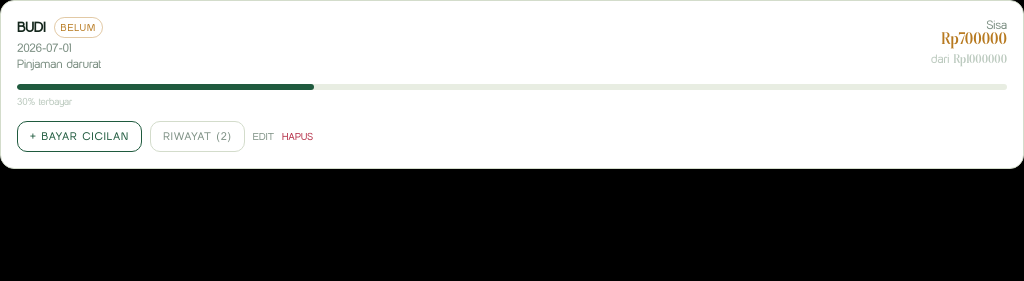
KasbonCard — tambahan entries (jenis=tambah branch) › shows '· tambahan' and '+' prefix for tambahan entries in riwayat
The image size is (1024, 281).
Click the button "Riwayat (2)" at [197, 136], box [150, 121, 245, 152]
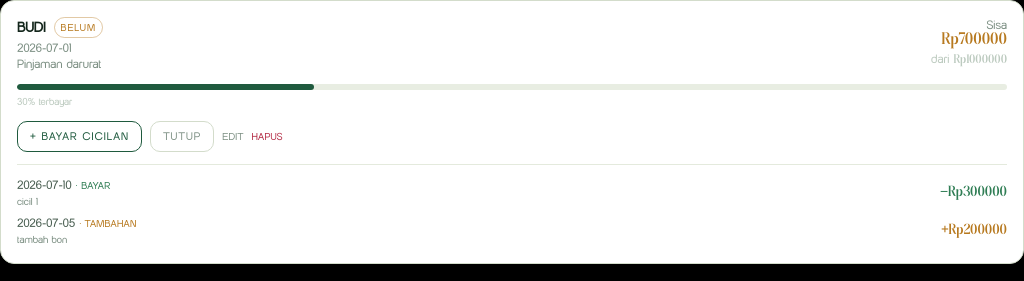
expect the text "· tambahan" is shown: met, box [79, 216, 137, 230]
